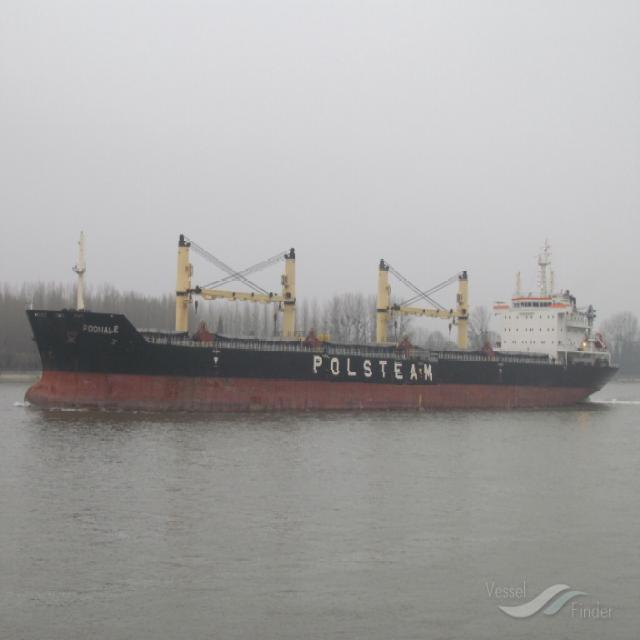OCR: (310, 349, 438, 385), (76, 316, 124, 344)
